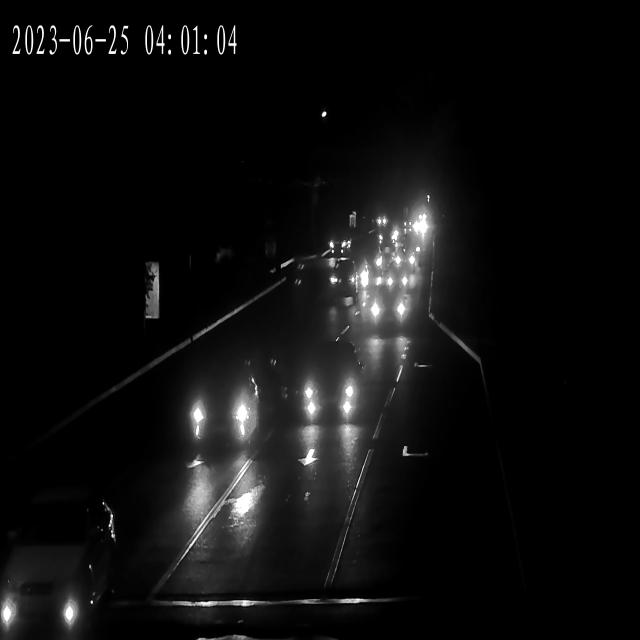Car: (0, 491, 117, 640), (178, 360, 262, 452), (278, 346, 364, 424), (363, 290, 410, 328), (328, 262, 364, 297), (385, 269, 418, 294), (389, 246, 418, 270), (393, 248, 421, 272), (377, 228, 400, 248), (373, 213, 389, 227)
